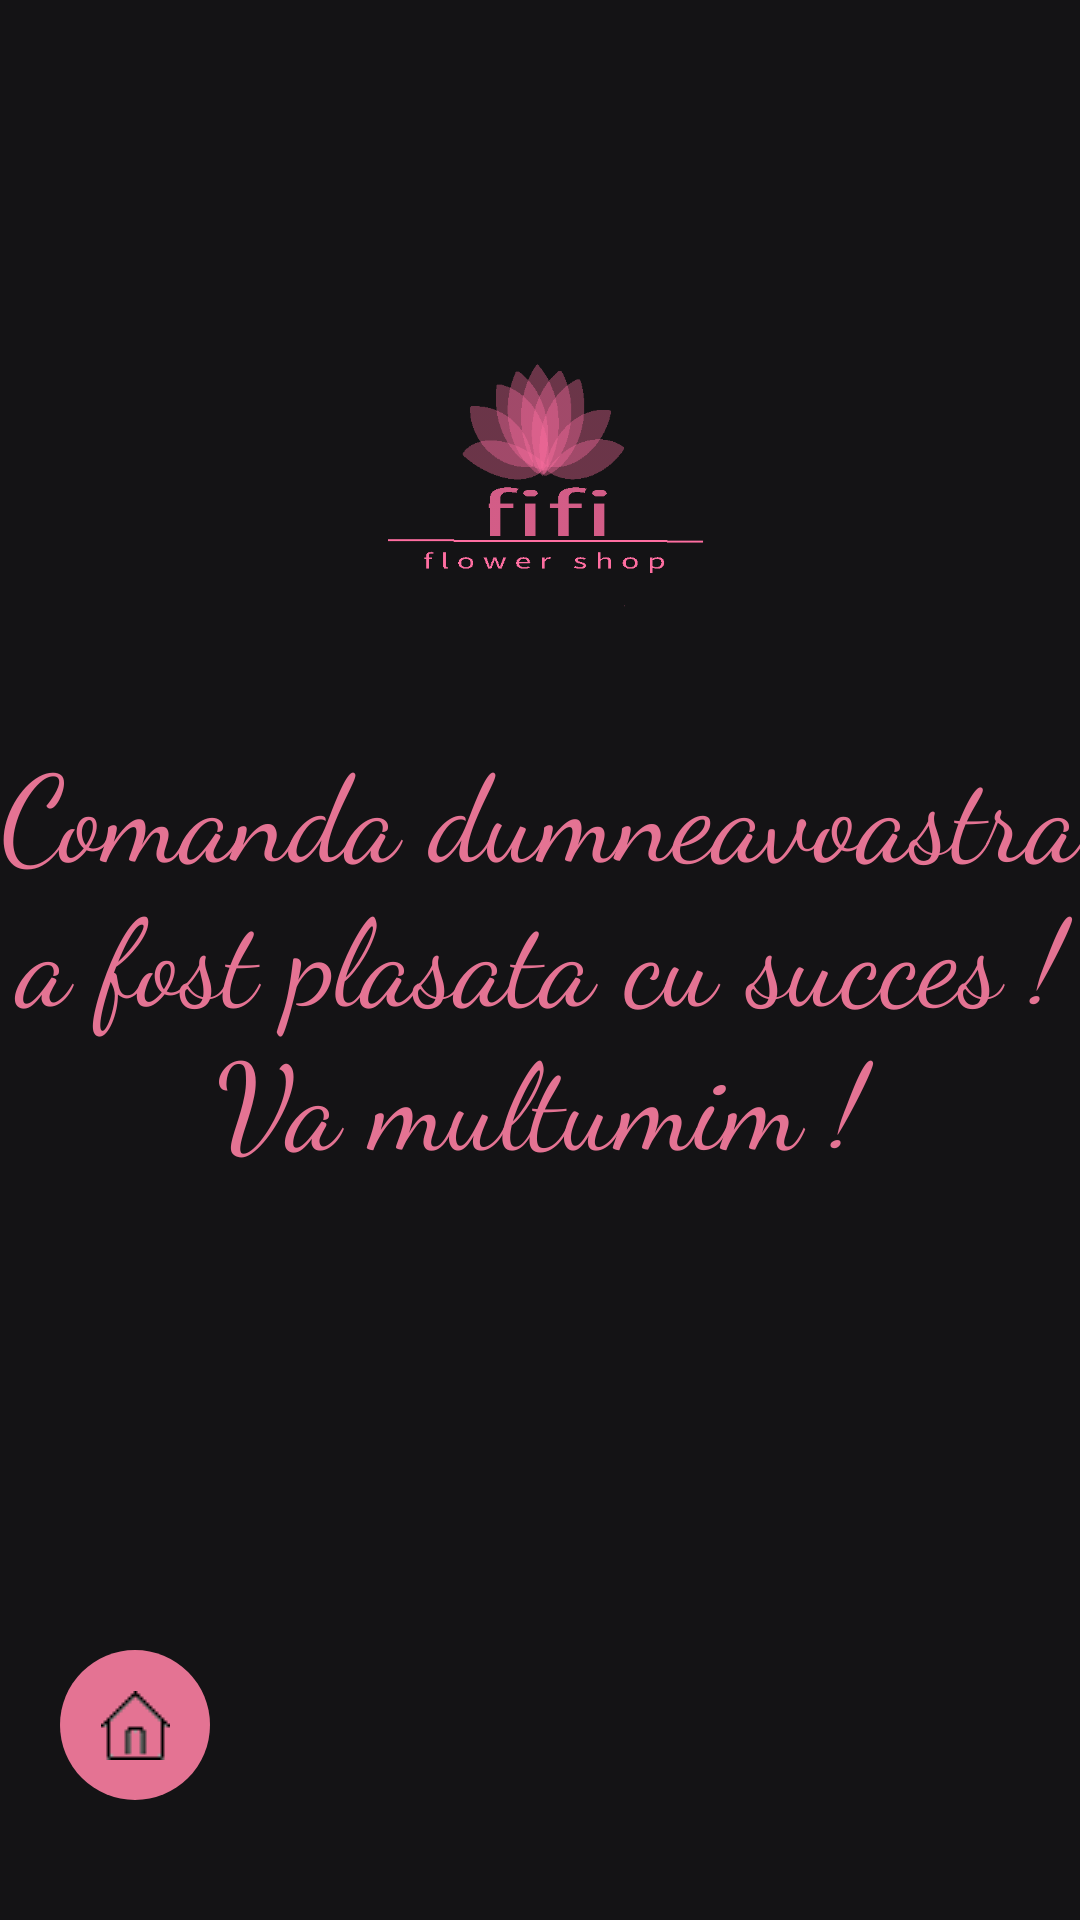

Point at icon controls on the screen. Image size 1080×1920, points as (x,y).
home: (135,1725)
